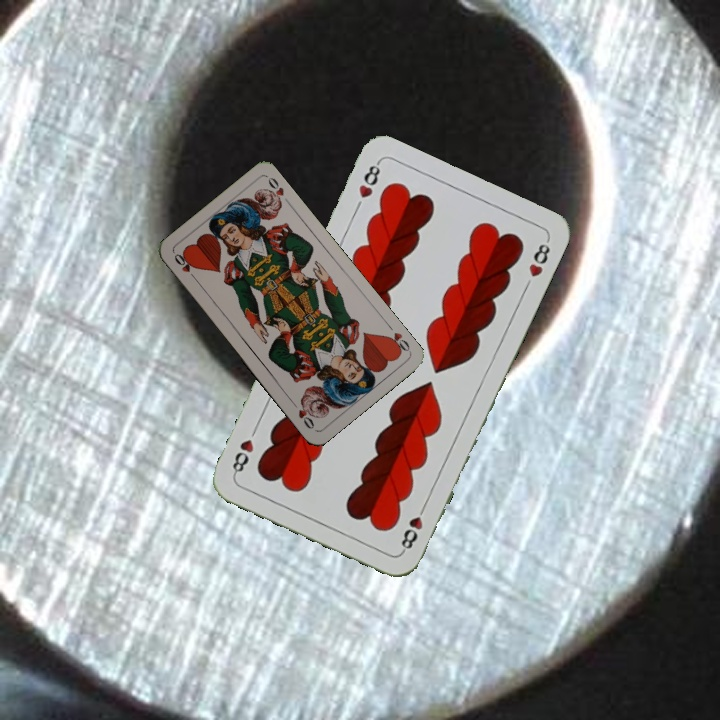H8: (397, 498, 429, 554), (354, 158, 383, 202)
HO: (382, 320, 413, 357), (170, 249, 200, 284)
